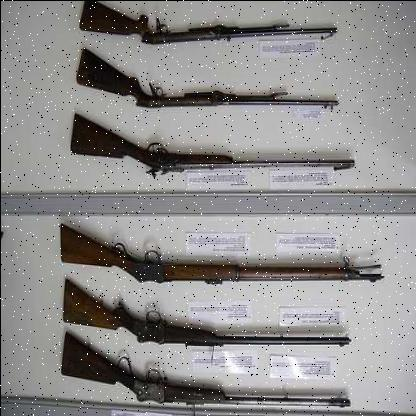rifle: (52, 268, 354, 364), (63, 97, 380, 183), (52, 215, 388, 290), (69, 55, 354, 128), (62, 349, 348, 410), (71, 1, 340, 51)
